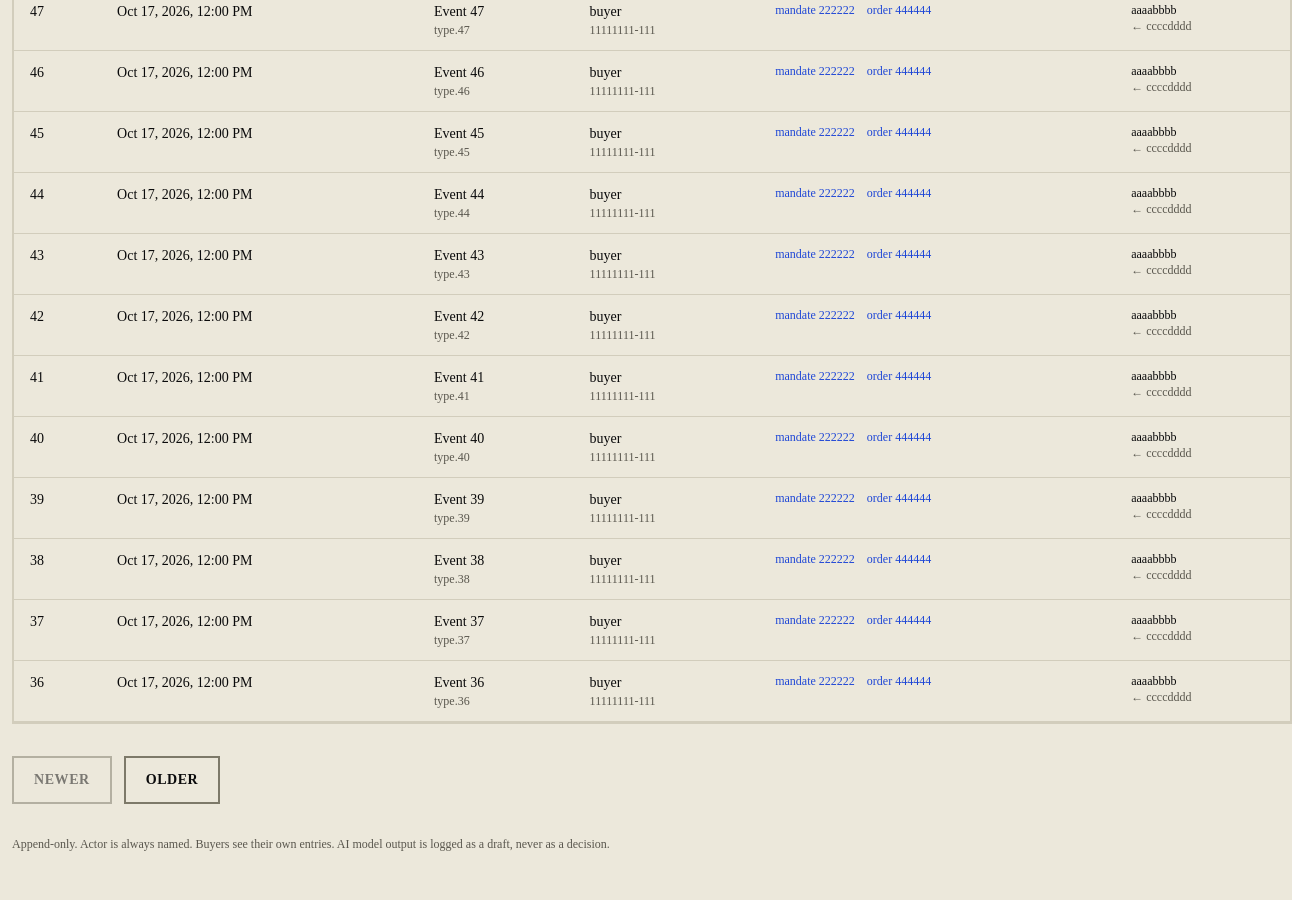
Test case: AuditLog › pages older and newer with sequence cursors
The image size is (1292, 900).
(page scrolled)
Expected: the button "Newer" is disabled, [12,756,112,804]
What coordinates should you click on to do the following:
click the button "Older"
I would click on:
 (172, 780)
Its box is [124,756,220,804].
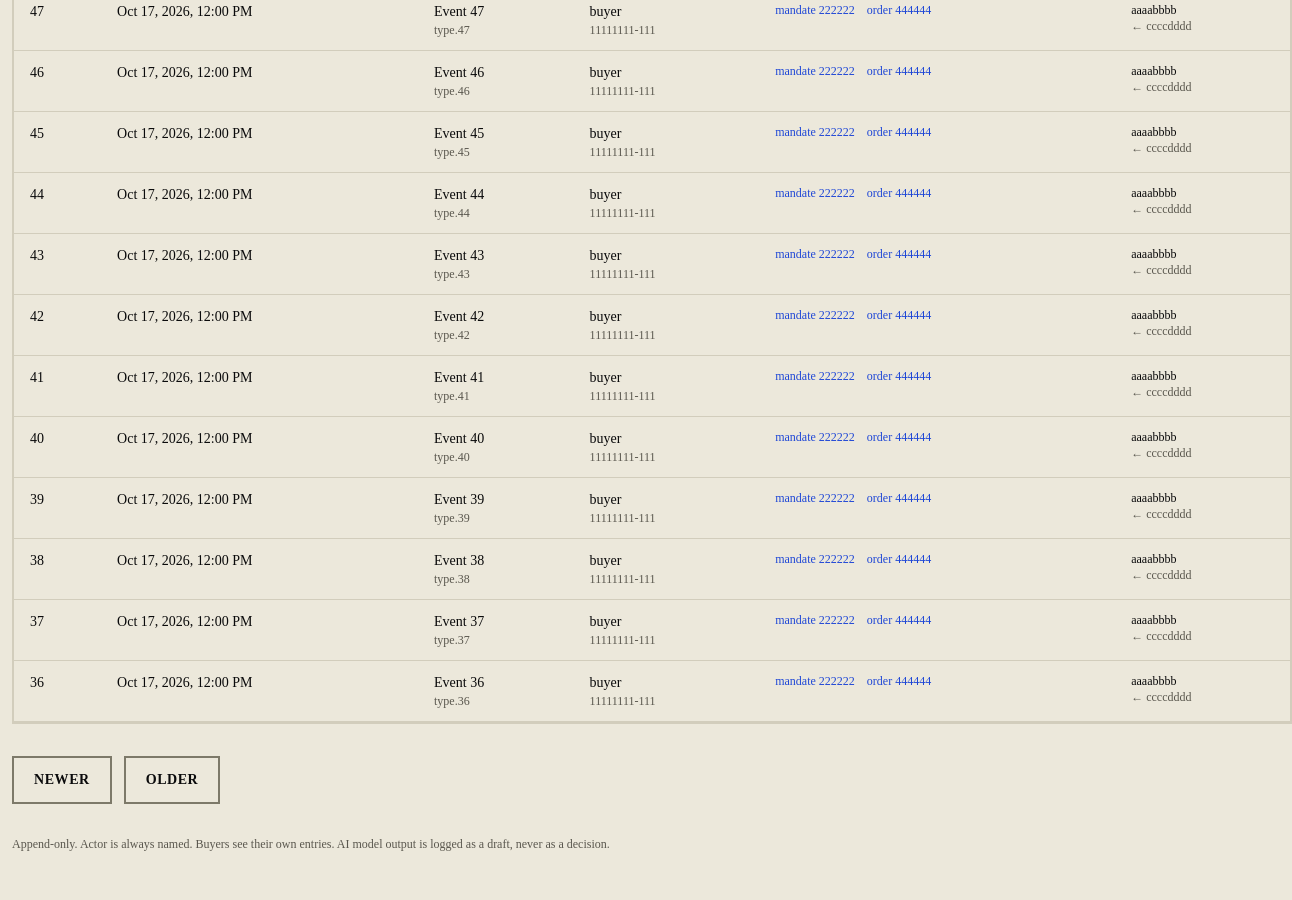
What coordinates should you click on to do the following:
click the button "Newer"
I would click on:
 (62, 780)
Its box is [12,756,112,804].
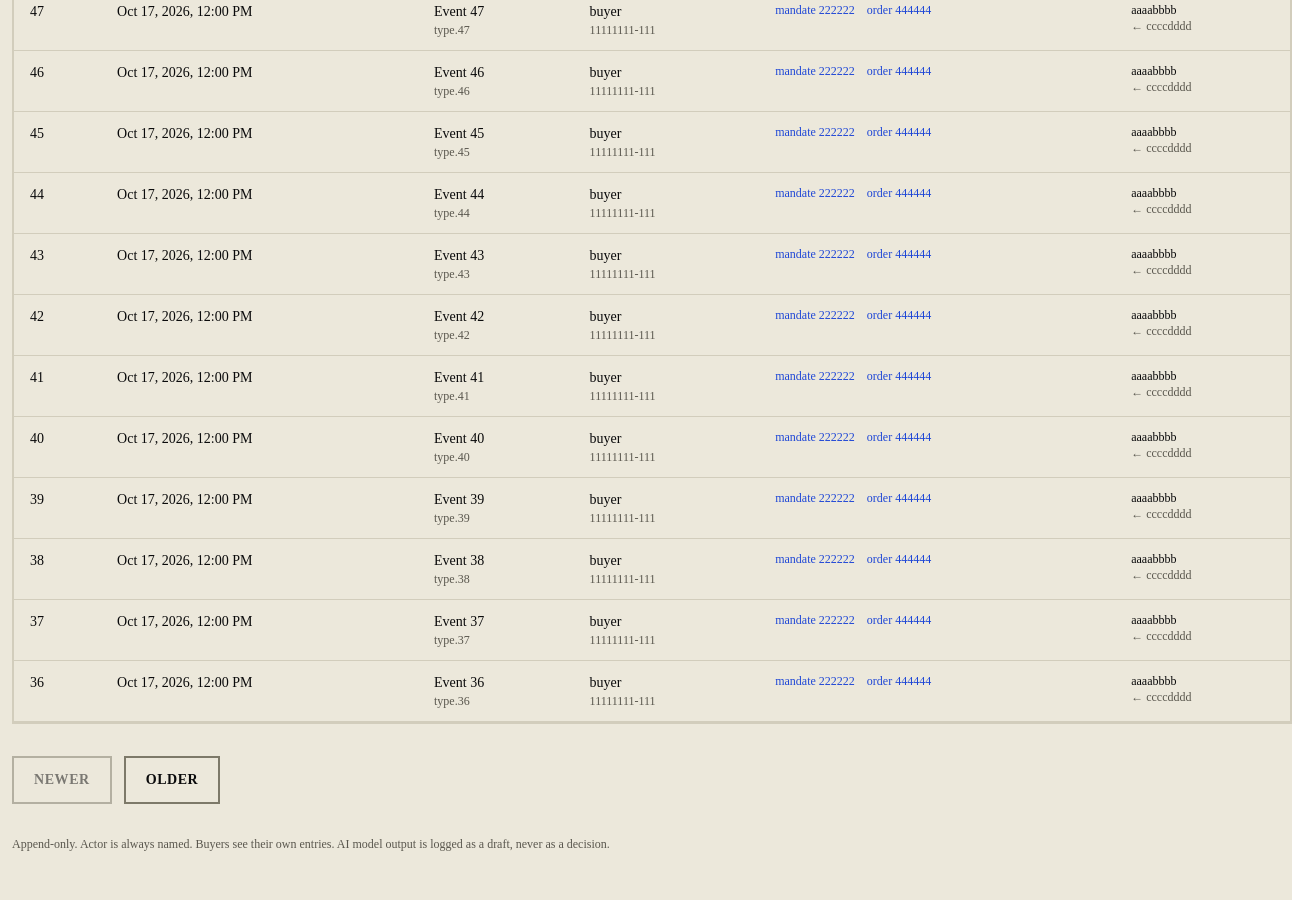
Now the button "Newer" is disabled, box [12,756,112,804]
